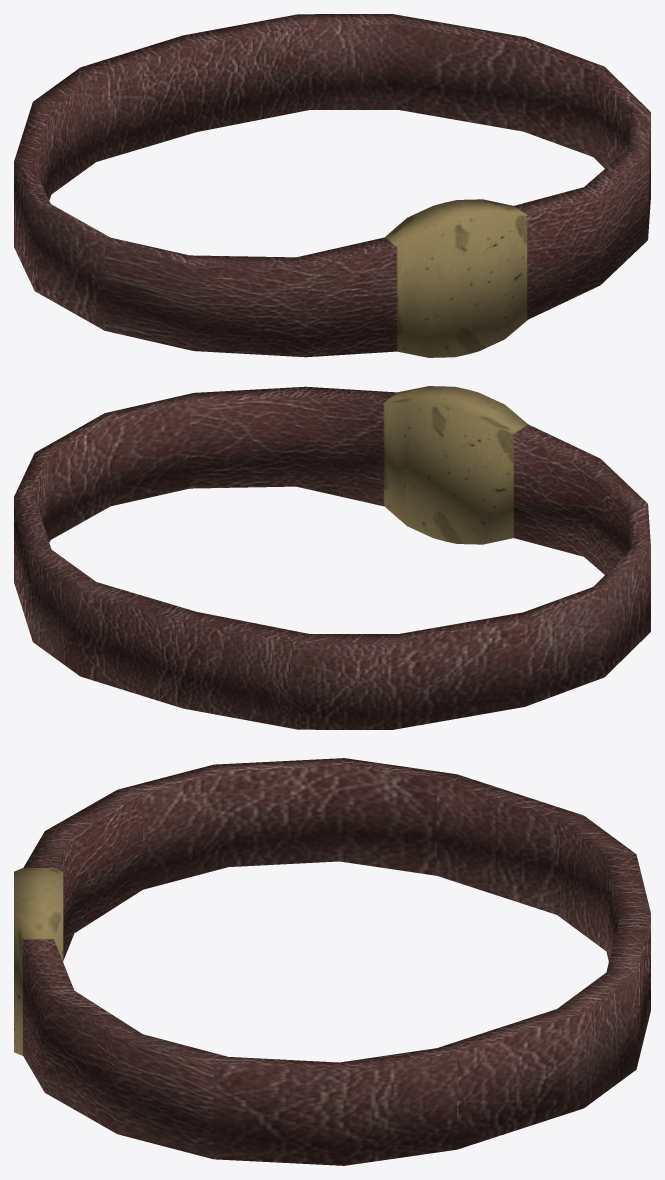
File: Belt.fbx
3 renders of one model, top to bottom at view 1: azimuth 30°, elevation 25°; view 2: azimuth 150°, elevation 25°; view 3: azimuth 270°, elevation 25°, orthographic. The views are drawn at different scales.
Parts seen in each view (by area): view 1: belt; view 2: belt; view 3: belt.
Boxes of the visible parts, left/top/right/bottom form: belt: left=14, top=14, right=650, bottom=357; belt: left=14, top=386, right=650, bottom=729; belt: left=14, top=758, right=650, bottom=1165.
Size of the model in its own units: 0.894 by 0.2039 by 0.7713.
